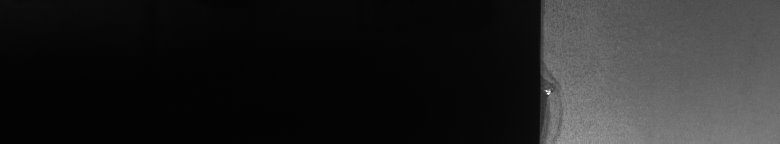hb: (548, 65, 568, 136)
